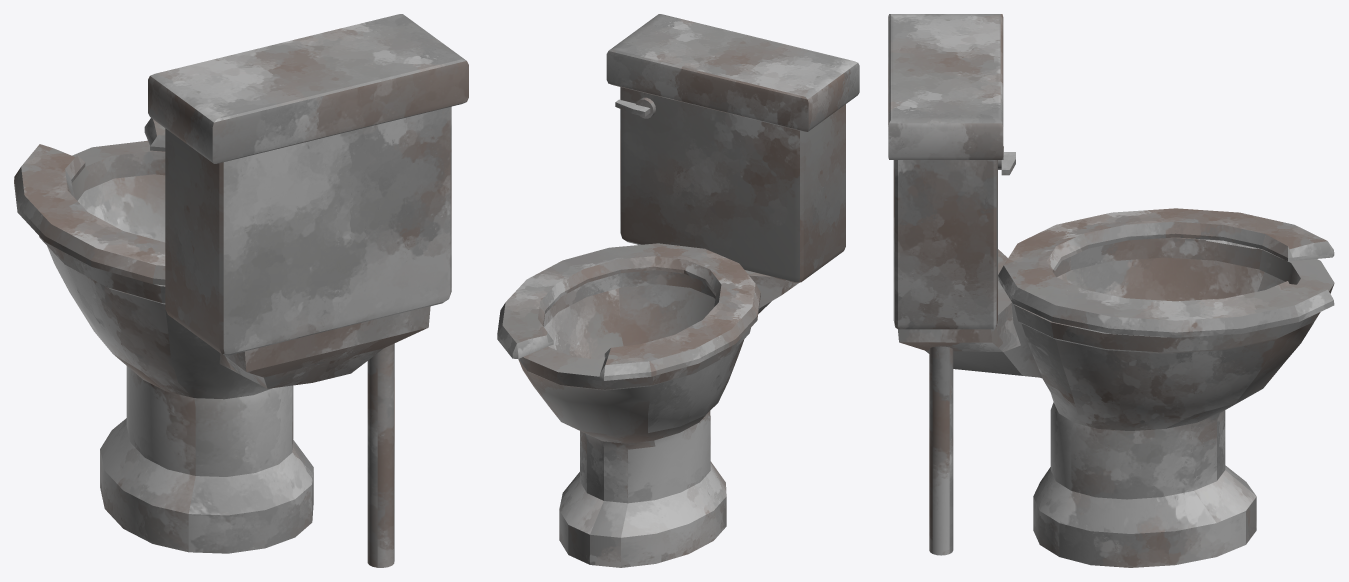
File: Toilet2.fbx
The picture shows the model from 3 angles, left to right: view 1: azimuth 30°, elevation 25°; view 2: azimuth 150°, elevation 25°; view 3: azimuth 270°, elevation 25°; orthographic projection. The views are drawn at different scales.
Visible parts, largest first — view 1: Sphere.005; view 2: Sphere.005; view 3: Sphere.005.
Boxes of the visible parts, left/top/right/bottom form: Sphere.005: left=14, top=14, right=468, bottom=567; Sphere.005: left=497, top=14, right=859, bottom=567; Sphere.005: left=888, top=14, right=1334, bottom=567.
Bounding box in the file's own units: 162 × 297 × 261.
